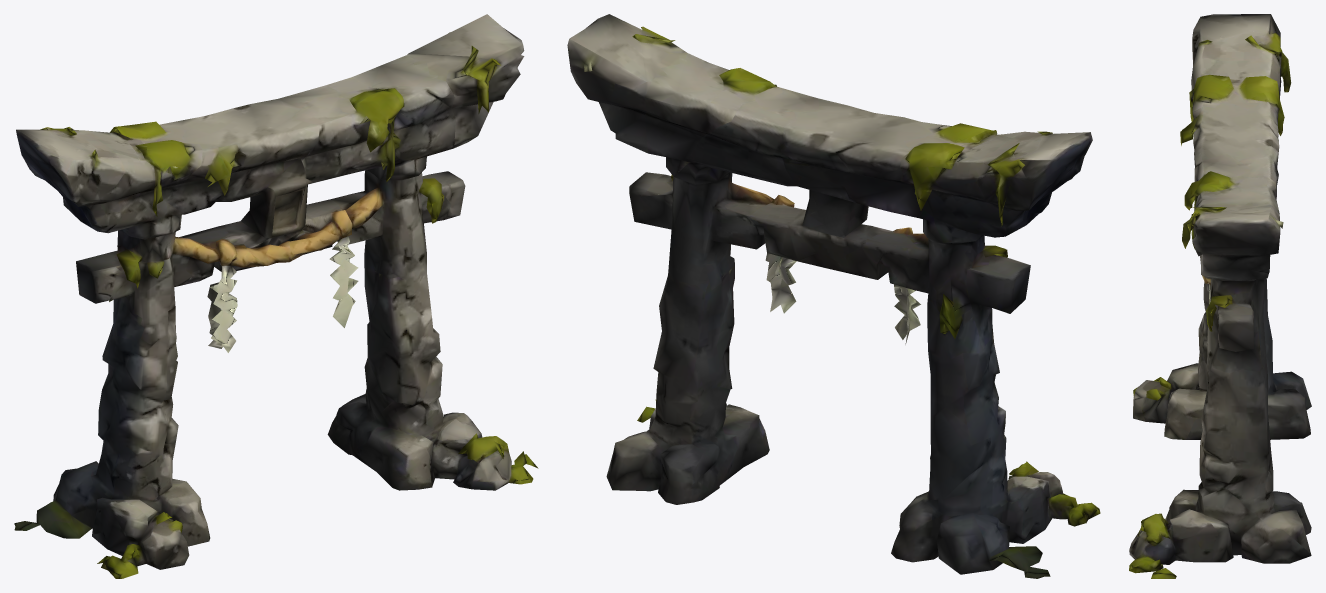
Rendered from rocktorii.glb.
3 views of the same model, side by side, from view 1: azimuth 30°, elevation 25°; view 2: azimuth 150°, elevation 25°; view 3: azimuth 270°, elevation 25° (orthographic). The views are drawn at different scales.
Visible parts, largest first — view 1: tripo_node_6b66eed5-482a-4ecd-8f63-e5dd8e2530ce; view 2: tripo_node_6b66eed5-482a-4ecd-8f63-e5dd8e2530ce; view 3: tripo_node_6b66eed5-482a-4ecd-8f63-e5dd8e2530ce.
Part boxes in pixels (bbox=[...]): tripo_node_6b66eed5-482a-4ecd-8f63-e5dd8e2530ce: bbox=[14, 14, 538, 578]; tripo_node_6b66eed5-482a-4ecd-8f63-e5dd8e2530ce: bbox=[567, 14, 1100, 578]; tripo_node_6b66eed5-482a-4ecd-8f63-e5dd8e2530ce: bbox=[1129, 14, 1311, 578].
Size of the model in its own units: 0.9994 by 0.813 by 0.3678.
Materials: 1 (1 with a texture image).
